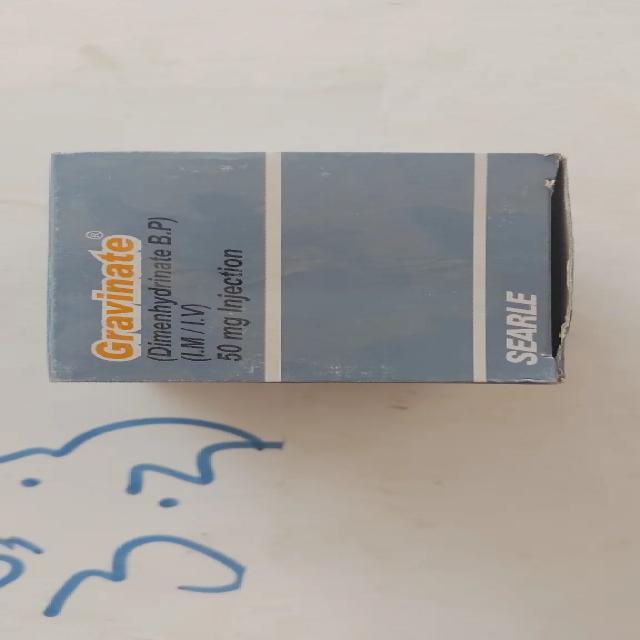drug-name: (90, 232, 142, 362)
